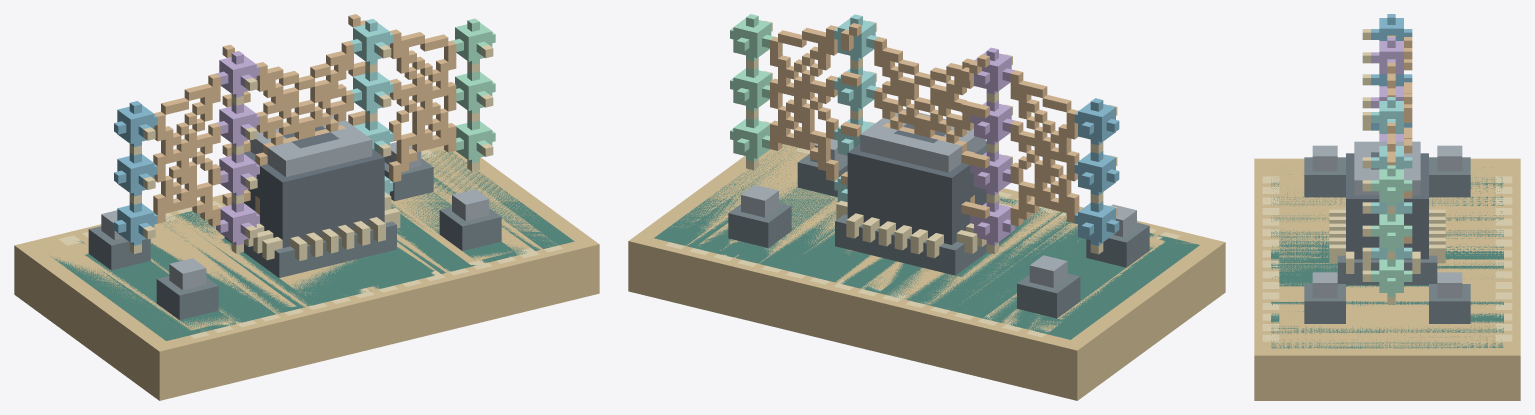
Rendered from projet-ia-neuronal1.glb.
3 views of the same model, side by side, from view 1: azimuth 30°, elevation 25°; view 2: azimuth 150°, elevation 25°; view 3: azimuth 270°, elevation 25° (orthographic). The views are drawn at different scales.
Parts seen in each view (by area): view 1: Bord dore du circuit, Pistes cuivre, Base visible du PCB, Composants electroniques, Processeur graphite, Contacts metalliques, Capot ceramic du processeur, Neurones violets, Neurones bleus, Neurones sortie vert menthe, Neurones cyan; view 2: Bord dore du circuit, Base visible du PCB, Pistes cuivre, Composants electroniques, Processeur graphite, Contacts metalliques, Capot ceramic du processeur, Neurones violets, Neurones bleus, Neurones sortie vert menthe, Neurones cyan; view 3: Bord dore du circuit, Base visible du PCB, Contacts metalliques, Composants electroniques, Capot ceramic du processeur, Processeur graphite, Neurones sortie vert menthe, Neurones cyan, Pistes cuivre, Neurones violets, Neurones bleus.
Part boxes in pixels (x1,y1,x2,y2): Bord dore du circuit: [14, 145, 599, 400]; Pistes cuivre: [153, 14, 456, 226]; Base visible du PCB: [51, 150, 574, 340]; Composants electroniques: [88, 158, 501, 319]; Processeur graphite: [244, 126, 384, 247]; Contacts metalliques: [58, 45, 562, 338]; Capot ceramic du processeur: [101, 115, 489, 290]; Neurones violets: [216, 51, 259, 245]; Neurones bleus: [114, 101, 157, 245]; Neurones sortie vert menthe: [452, 18, 495, 163]; Neurones cyan: [350, 19, 393, 194]; Bord dore du circuit: [628, 144, 1225, 400]; Base visible du PCB: [654, 145, 1199, 339]; Pistes cuivre: [770, 23, 1079, 226]; Composants electroniques: [728, 153, 1149, 318]; Processeur graphite: [847, 124, 986, 244]; Contacts metalliques: [665, 20, 1180, 337]; Capot ceramic du processeur: [741, 108, 1136, 287]; Neurones violets: [970, 47, 1015, 245]; Neurones bleus: [1074, 98, 1119, 245]; Neurones sortie vert menthe: [730, 14, 773, 161]; Neurones cyan: [834, 14, 878, 202]; Bord dore du circuit: [1254, 158, 1520, 400]; Base visible du PCB: [1271, 167, 1503, 348]; Contacts metalliques: [1262, 29, 1512, 341]; Composants electroniques: [1304, 157, 1470, 323]; Capot ceramic du processeur: [1312, 141, 1462, 297]; Processeur graphite: [1346, 152, 1428, 259]; Neurones sortie vert menthe: [1371, 165, 1412, 296]; Neurones cyan: [1371, 97, 1412, 259]; Pistes cuivre: [1387, 35, 1412, 243]; Neurones violets: [1371, 37, 1403, 141]; Neurones bleus: [1371, 14, 1412, 130].
Size of the model in its own units: 1.96 by 1.08 by 1.12.
